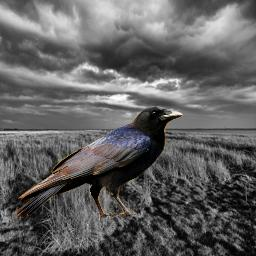Crow: (14, 104, 183, 218)
